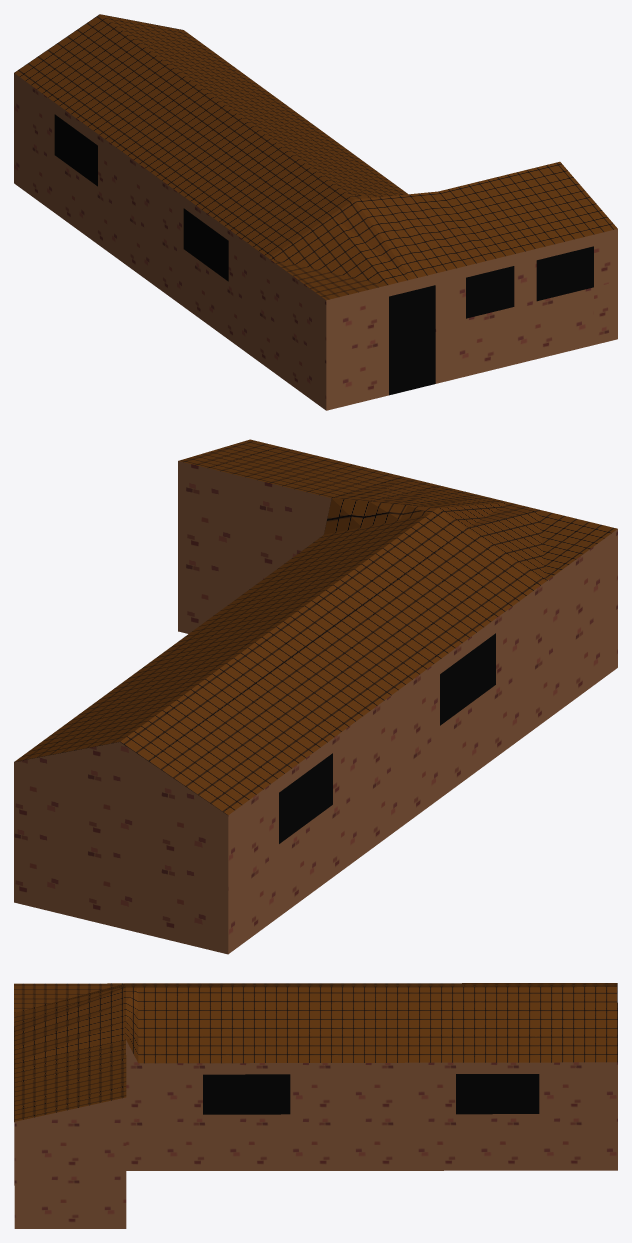
Rendered from patterson.obj.
3 views of the same model, one above another, from view 1: azimuth 30°, elevation 25°; view 2: azimuth 150°, elevation 25°; view 3: azimuth 270°, elevation 25° (orthographic). The views are drawn at different scales.
Parts seen in each view (by area): view 1: Cube_Cube.001; view 2: Cube_Cube.001; view 3: Cube_Cube.001.
Boxes of the visible parts, x1=… form: Cube_Cube.001: x1=14, y1=14, x2=617, y2=410; Cube_Cube.001: x1=14, y1=439, x2=617, y2=954; Cube_Cube.001: x1=14, y1=983, x2=617, y2=1228.
Bounding box in the file's own units: 2.89 × 1.39 × 5.31.
3 materials, 3 textured.
